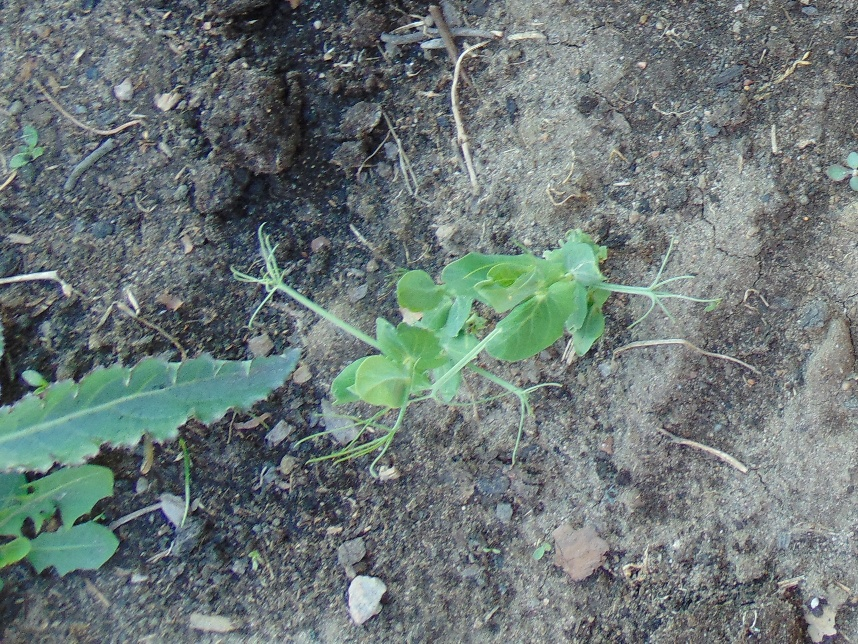crop: (255, 248, 682, 442)
weed: (1, 348, 300, 568), (829, 150, 858, 194), (13, 122, 42, 166)
